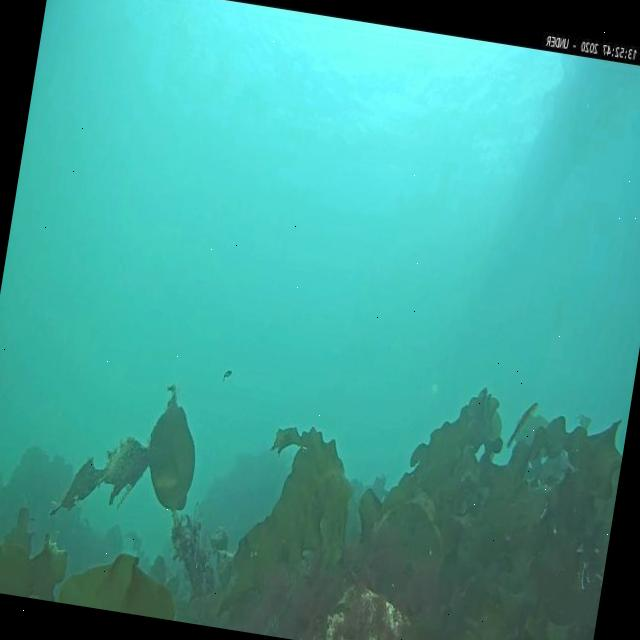fish: (508, 399, 540, 450), (223, 368, 232, 384)
